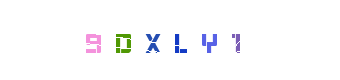1: (187, 0, 267, 80)
9: (60, 0, 140, 80)
D: (83, 0, 163, 80)
L: (130, 0, 210, 80)
X: (125, 0, 205, 80)
Y: (167, 0, 247, 80)
